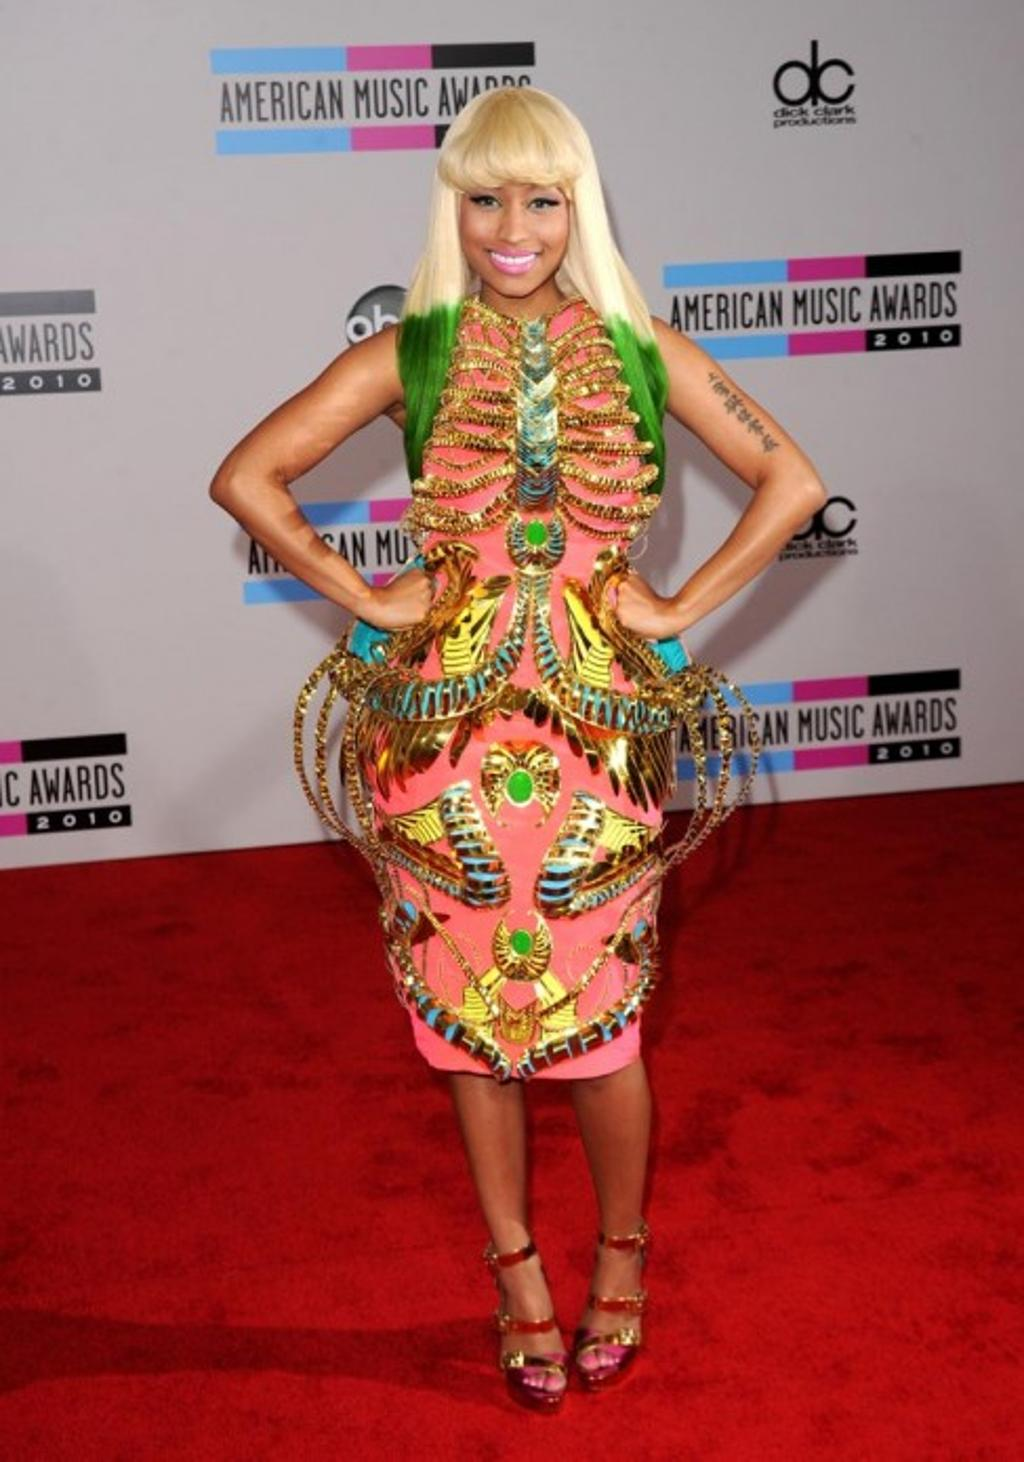face: (454, 120, 571, 297)
